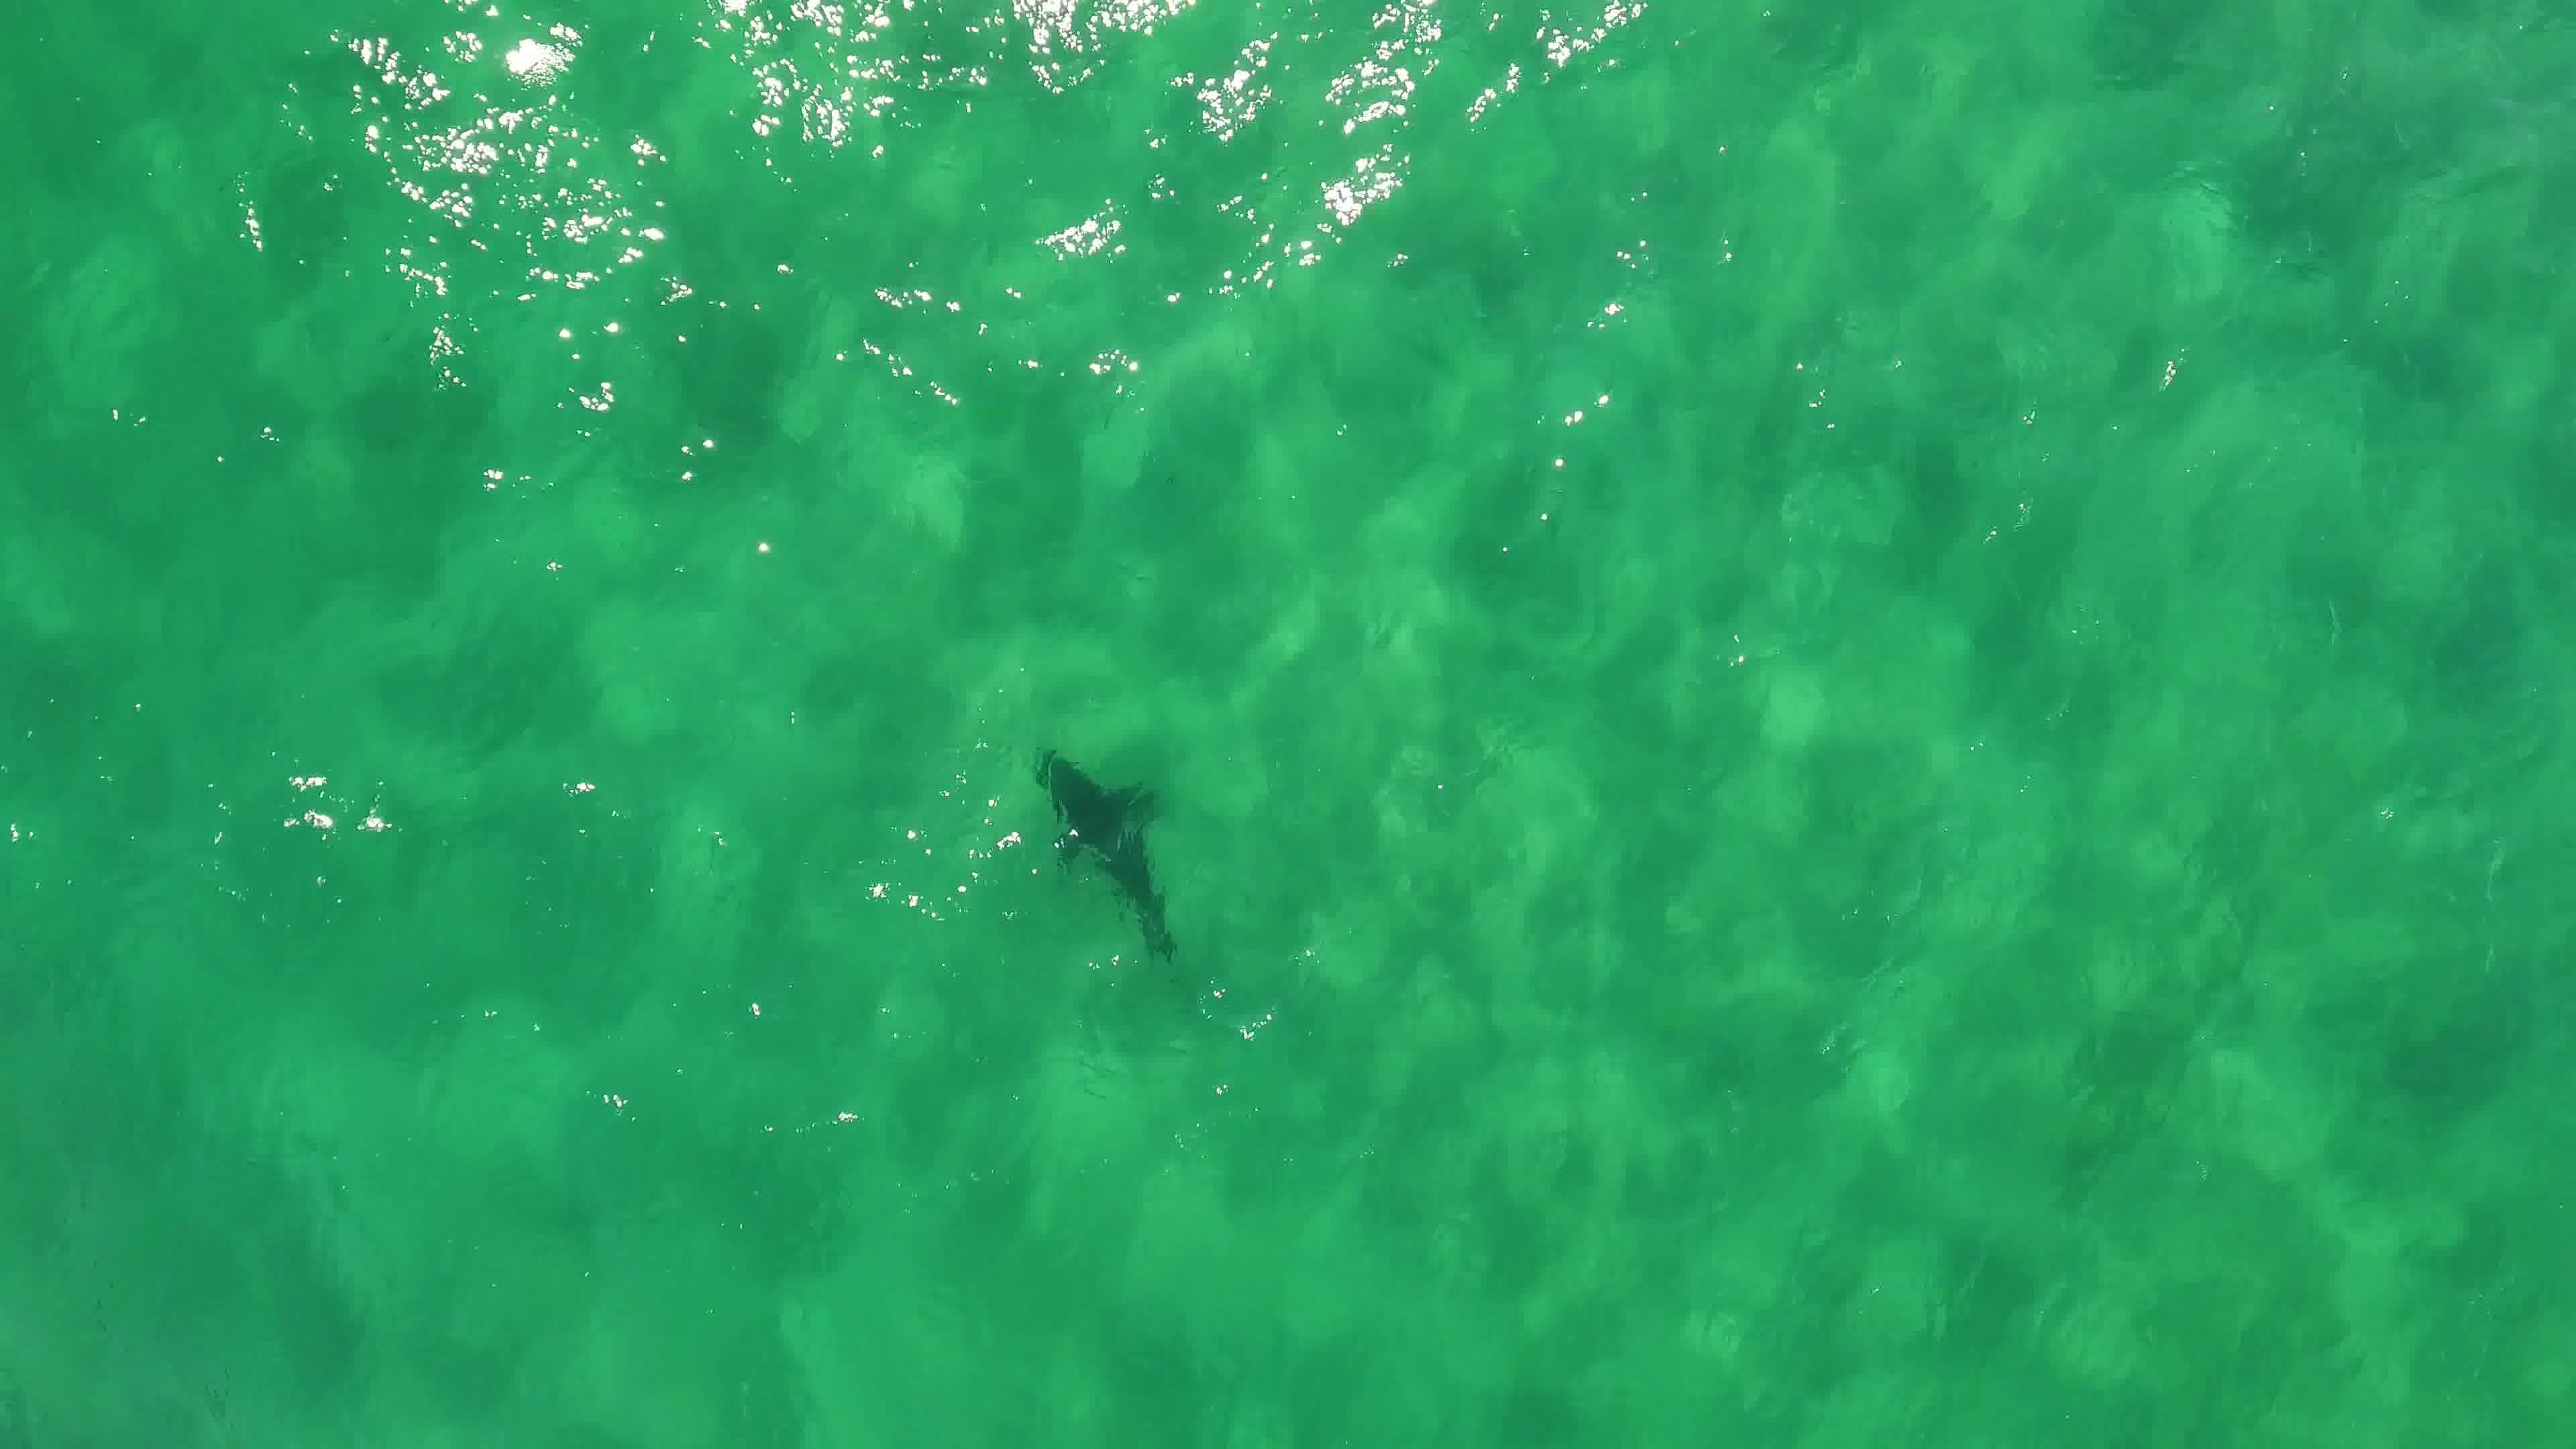shark: (1012, 736, 1191, 966)
